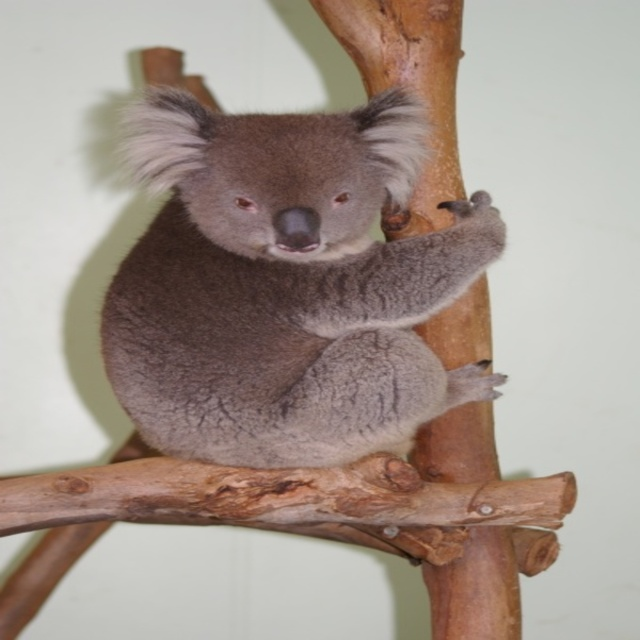Koala: (101, 85, 507, 467)
